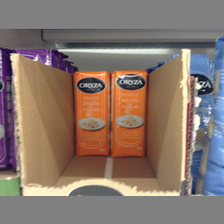rice: (110, 70, 149, 157), (73, 71, 111, 155)
